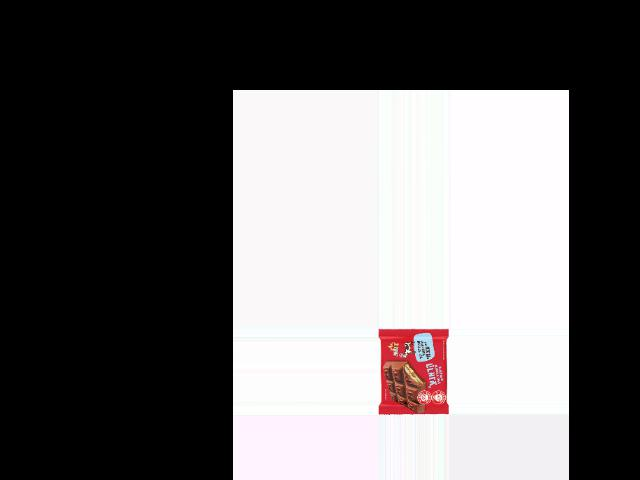chocolate: (379, 331, 449, 413)
